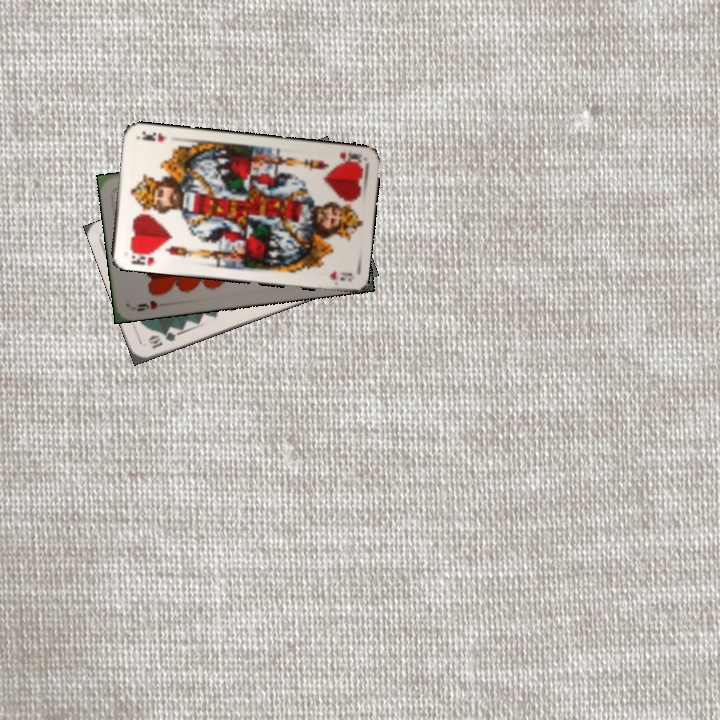G10: (144, 327, 182, 351)
H9: (133, 296, 160, 314)
HK: (126, 246, 157, 268), (335, 148, 364, 168)
